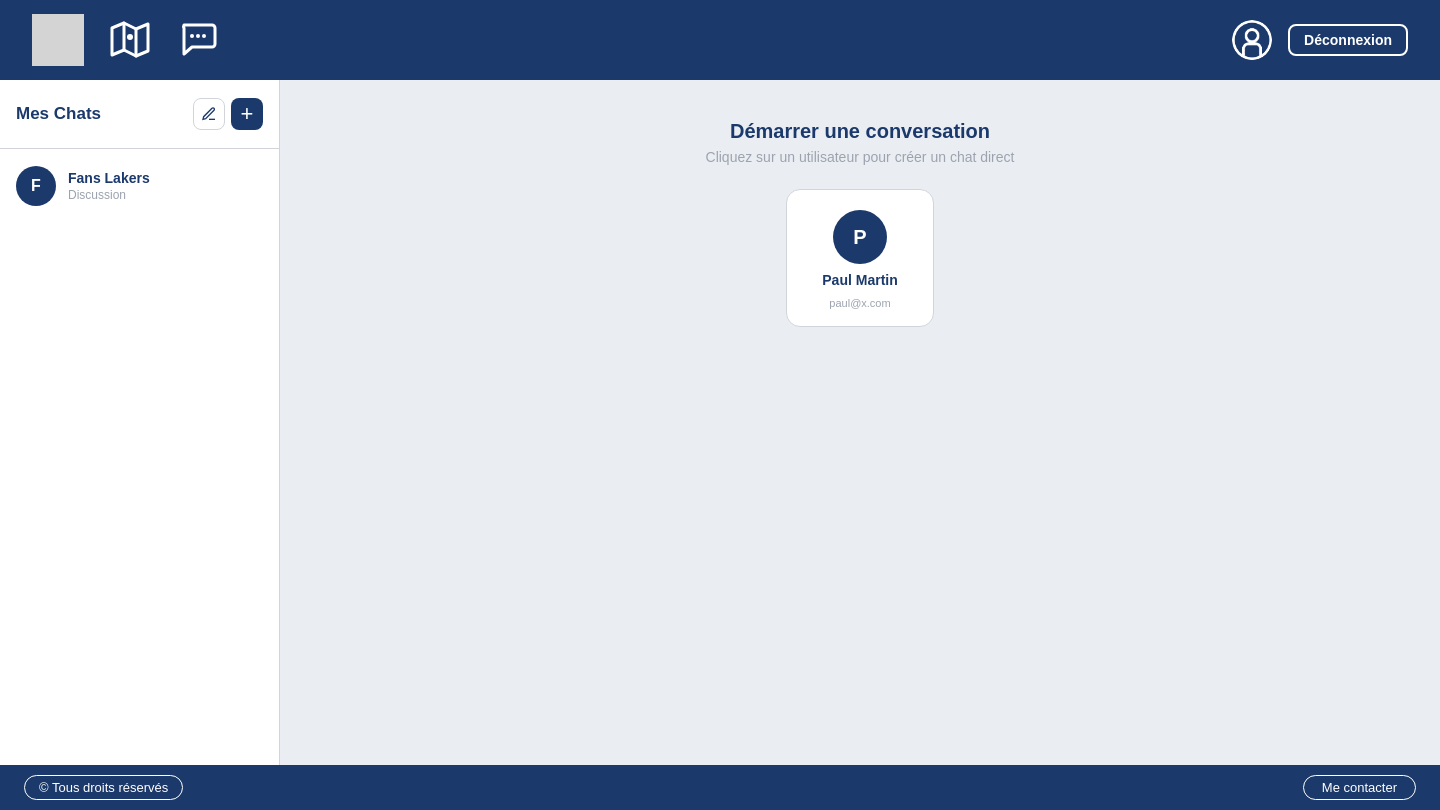
Test: ChatPage › ouvre la modale de création de chat
Expected: the text "Fans Lakers" is shown, [68,170,150,186]
Click the button titled "Créer ou rejoindre": (247, 114) [231,98,263,130]
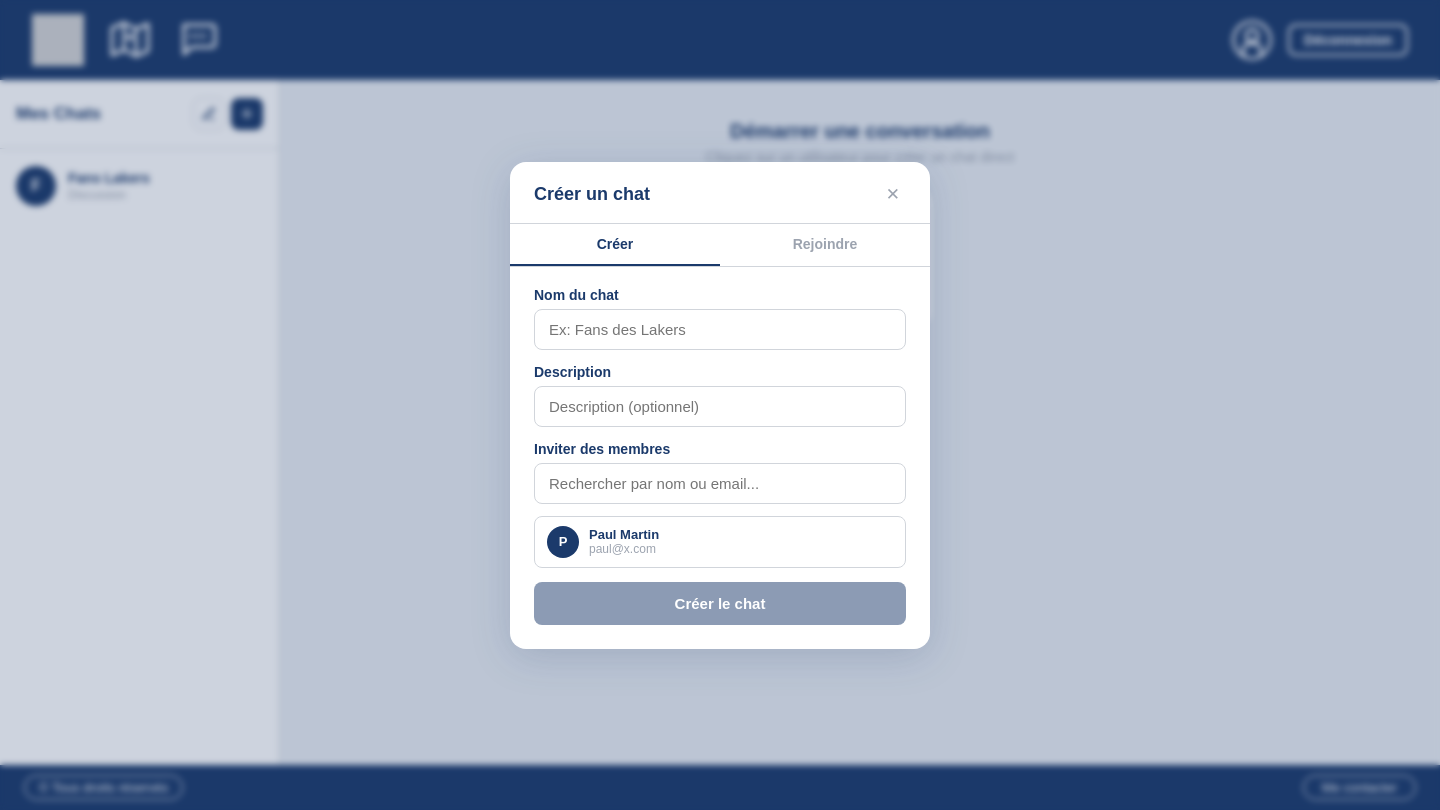
Expected: the heading "Créer un chat" is shown, [534,184,650,204]
